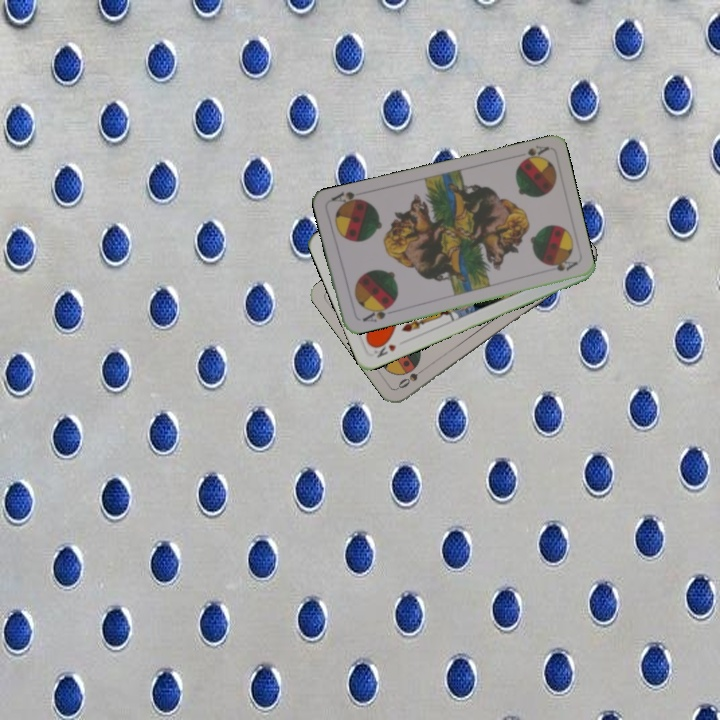HK: (367, 336, 399, 360)
SA: (515, 141, 550, 166), (358, 301, 394, 325)
SO: (394, 363, 429, 391)
